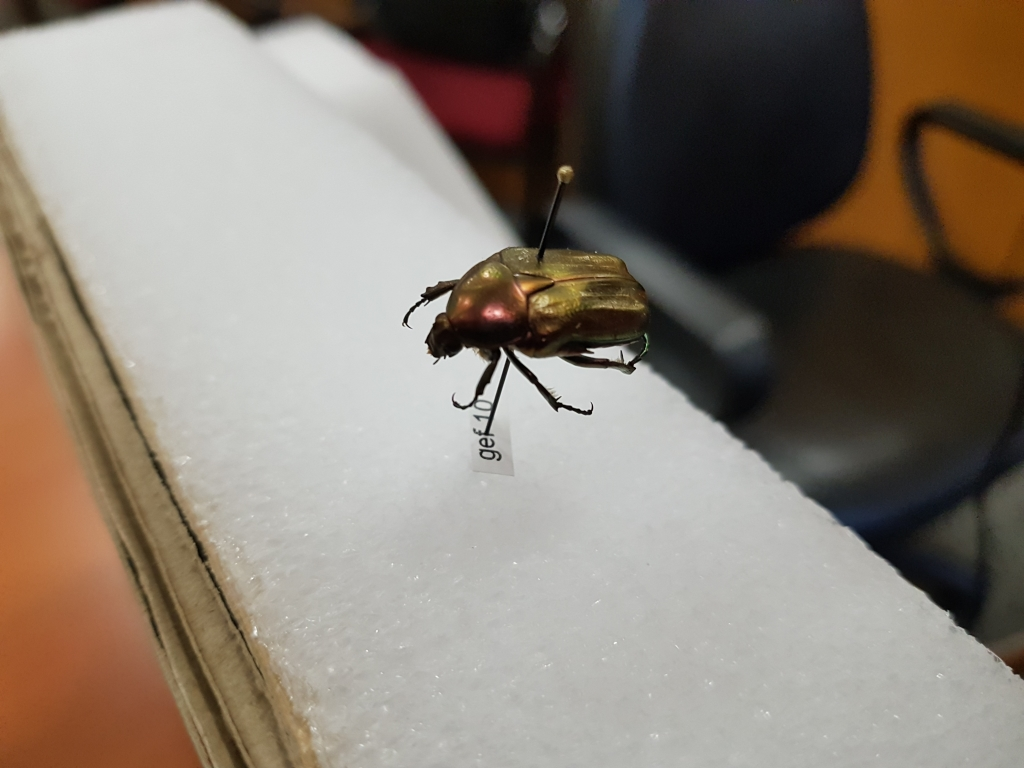Cetonia_aurata: (403, 235, 658, 423)
